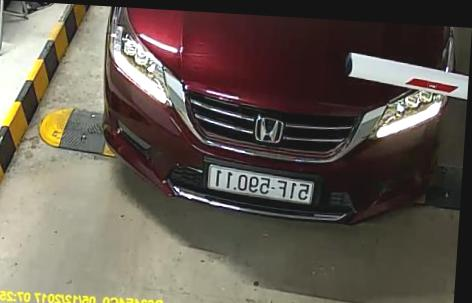License_Plate: (203, 166, 321, 205)
